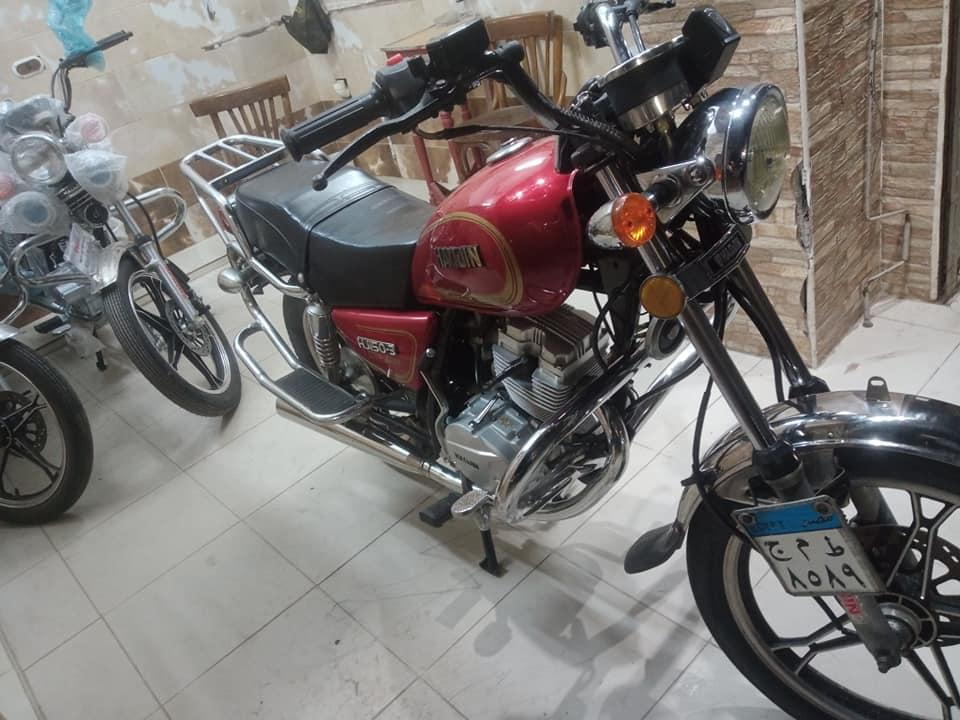License Plate: (741, 500, 887, 596)
